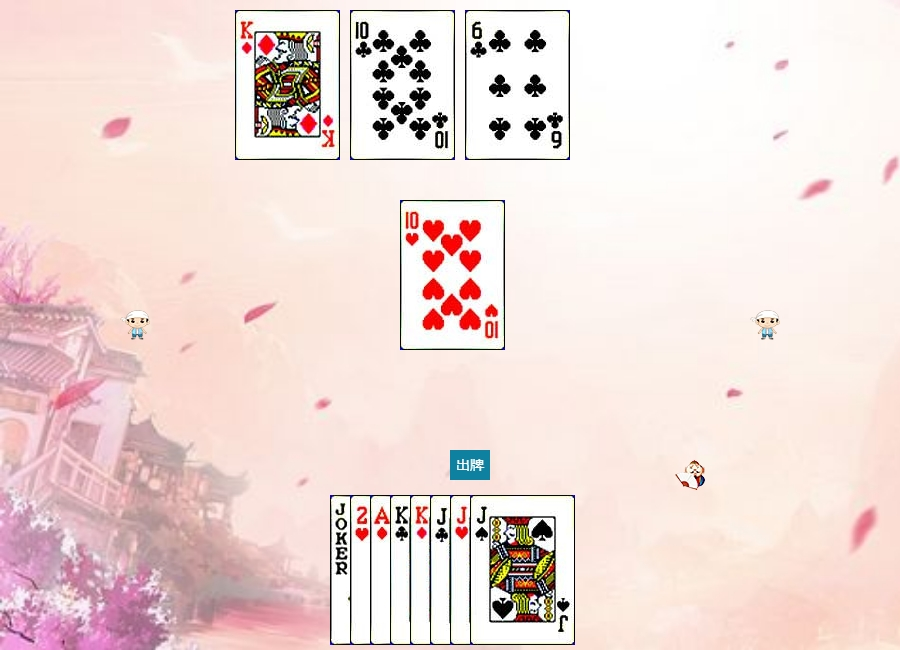10~2: (350, 10, 455, 160)
10~3: (400, 200, 505, 350)
11~2: (430, 495, 535, 645)
11~3: (450, 495, 555, 645)
11~4: (470, 495, 575, 645)
13~1: (235, 10, 340, 160), (410, 495, 515, 645)
13~2: (390, 495, 495, 645)
14~1: (370, 495, 475, 645)
15~3: (350, 495, 455, 645)
17~3: (330, 495, 435, 645)
6~2: (465, 10, 570, 160)
